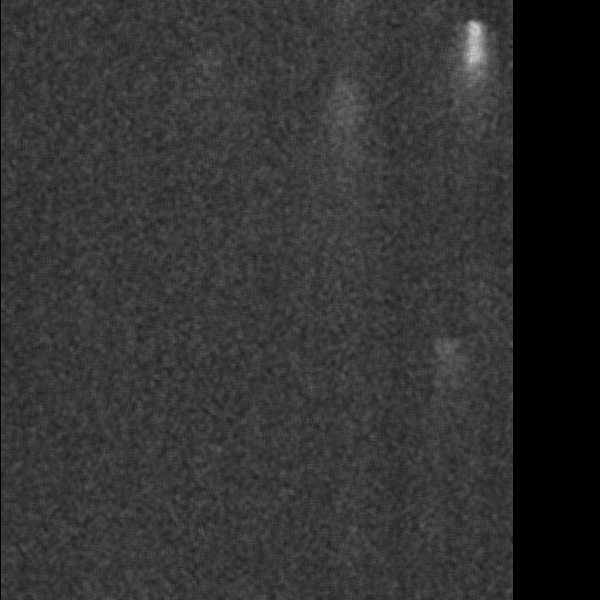spark: (454, 15, 490, 187), (333, 80, 357, 200), (433, 332, 460, 399)
